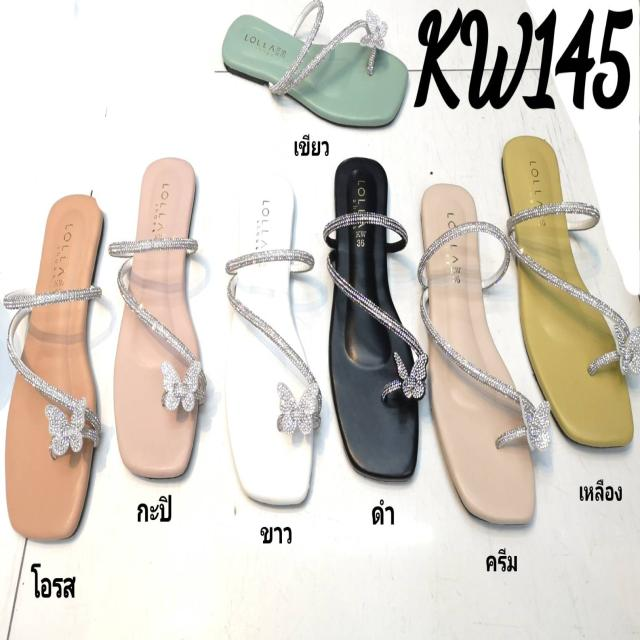black: (325, 161, 416, 480)
cream: (420, 185, 537, 524)
green: (217, 13, 405, 126)
kapi: (111, 154, 203, 480)
orot: (9, 196, 103, 542)
white: (224, 179, 310, 504)
yellow: (505, 130, 633, 452)
